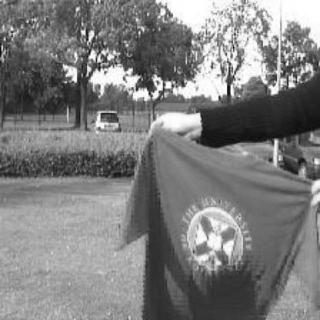other: (110, 116, 316, 314)
